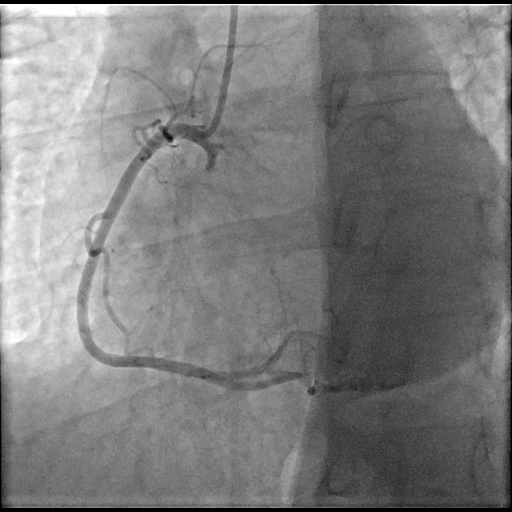RCA: (76, 122, 304, 388)
catherter: (201, 3, 237, 135)
